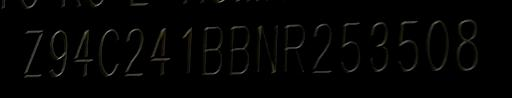letter: (422, 17, 452, 72), (453, 15, 481, 73), (253, 21, 281, 75), (94, 25, 122, 79), (394, 16, 420, 72), (308, 19, 334, 75), (366, 19, 392, 74), (121, 25, 147, 80), (280, 19, 306, 73), (226, 22, 252, 76), (198, 24, 224, 76), (20, 27, 46, 79), (338, 19, 362, 75), (46, 26, 70, 80), (147, 25, 171, 78), (71, 25, 95, 76), (180, 24, 196, 76)
